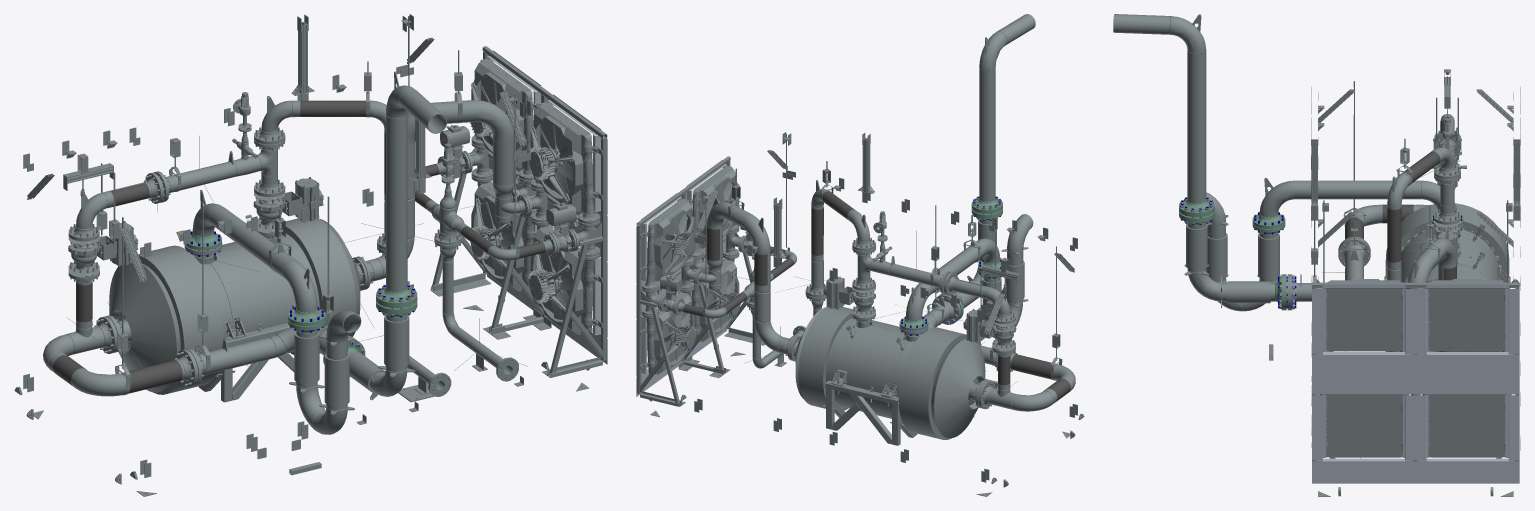
File: f6_brayton.glb
3 renders of one model, left to right at view 1: azimuth 30°, elevation 25°; view 2: azimuth 150°, elevation 25°; view 3: azimuth 270°, elevation 25°, orthographic. The views are drawn at different scales.
Visible parts, largest first — view 1: f6_brayton; view 2: f6_brayton; view 3: f6_brayton.
Boxes of the visible parts, x1,y1,x2,y2 form: f6_brayton: (14,14,607,496); f6_brayton: (636,14,1084,496); f6_brayton: (1113,14,1520,496).
Bounding box in the file's own units: 5.78 × 4.79 × 4.76.
